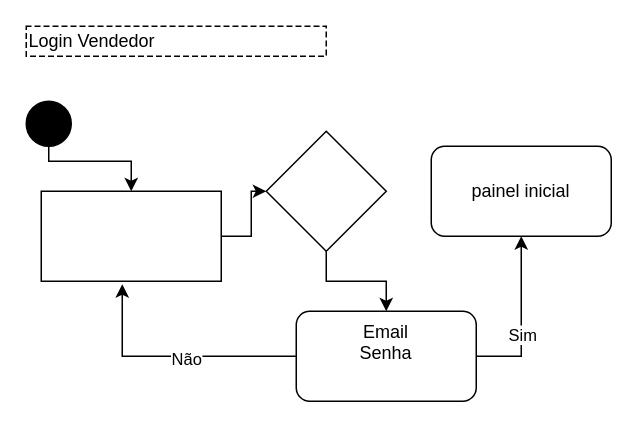
The diagram is 638 pixels wide and 428 high, and some of its shapes have lost their labels. Each missing label, with the box of its shape:
Página login: (40, 190, 221, 281)
Sucesso?: (265, 130, 386, 251)
